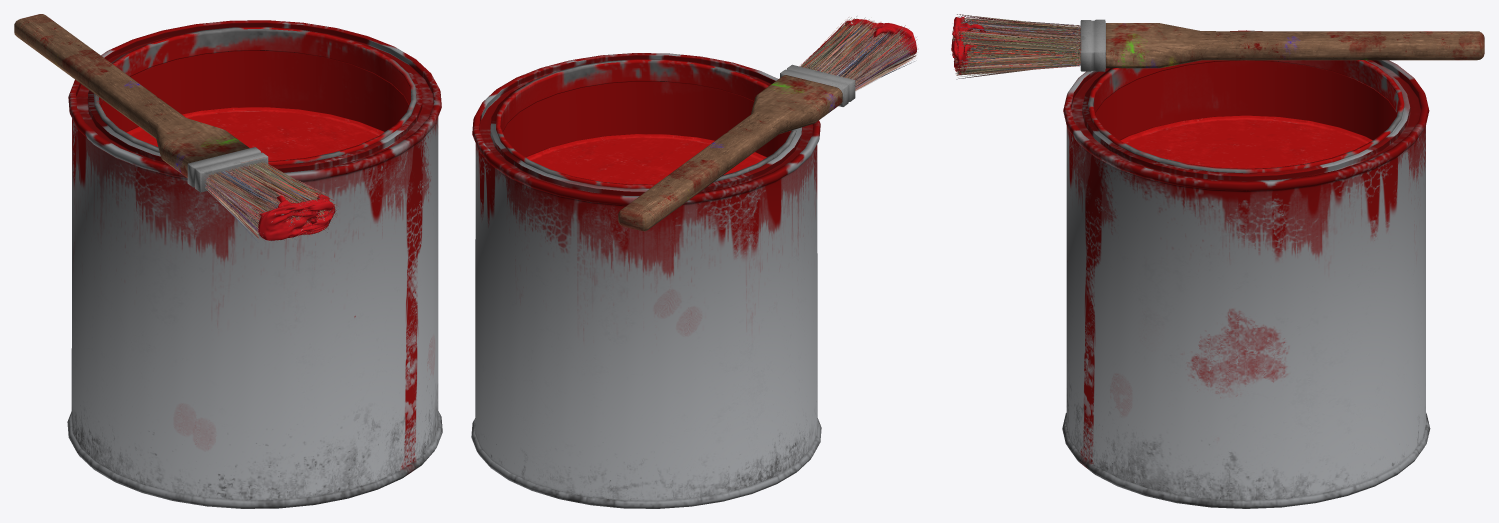
The model's file is Paint Bucket.fbx.
3 views of the same model, side by side, from view 1: azimuth 30°, elevation 25°; view 2: azimuth 150°, elevation 25°; view 3: azimuth 270°, elevation 25° (orthographic). The views are drawn at different scales.
Visible parts, largest first — view 1: Paint; view 2: Paint; view 3: Paint.
Part boxes in pixels (x1=…): Paint: x1=14, y1=14, x2=442, y2=508; Paint: x1=471, y1=16, x2=917, y2=508; Paint: x1=951, y1=14, x2=1484, y2=508.
Bounding box in the file's own units: 205 × 219 × 298.
